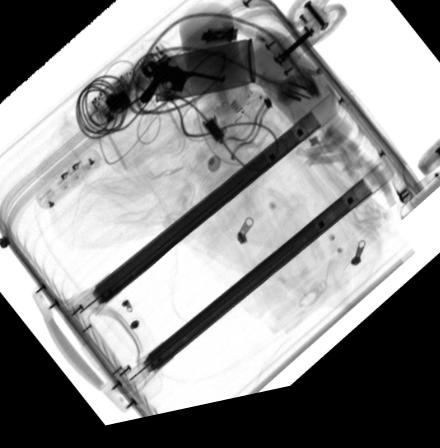Gun: (138, 62, 227, 109)
